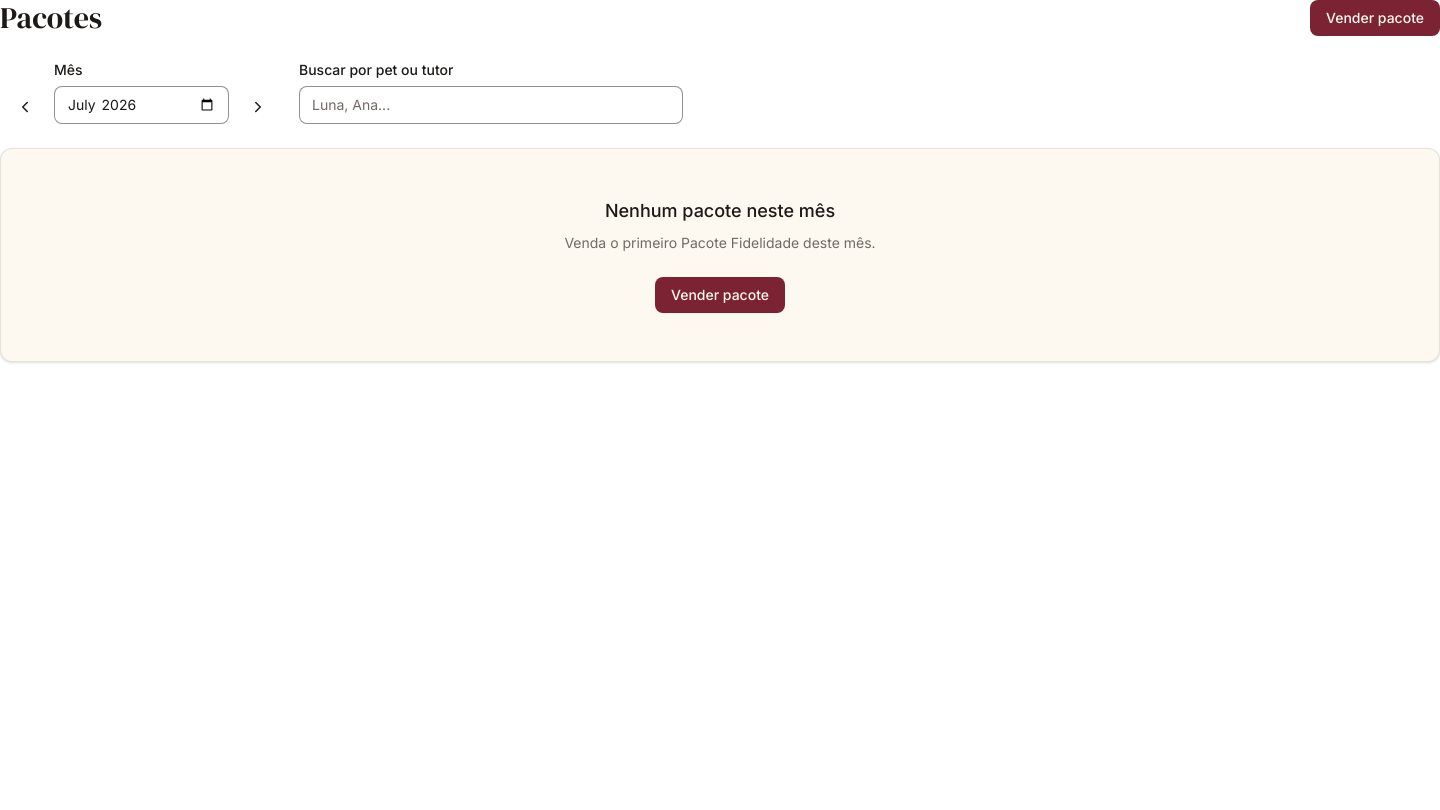
it: Pacotes › venda duplicada mostra a mensagem do backend dentro do modal
The width and height of the screenshot is (1440, 810).
Expected: the text "Nenhum pacote neste mês" is shown, [605,197,835,225]
Click the button "Vender pacote" in the row of "Pacotes" at (1375, 18), box [1310,0,1439,36]
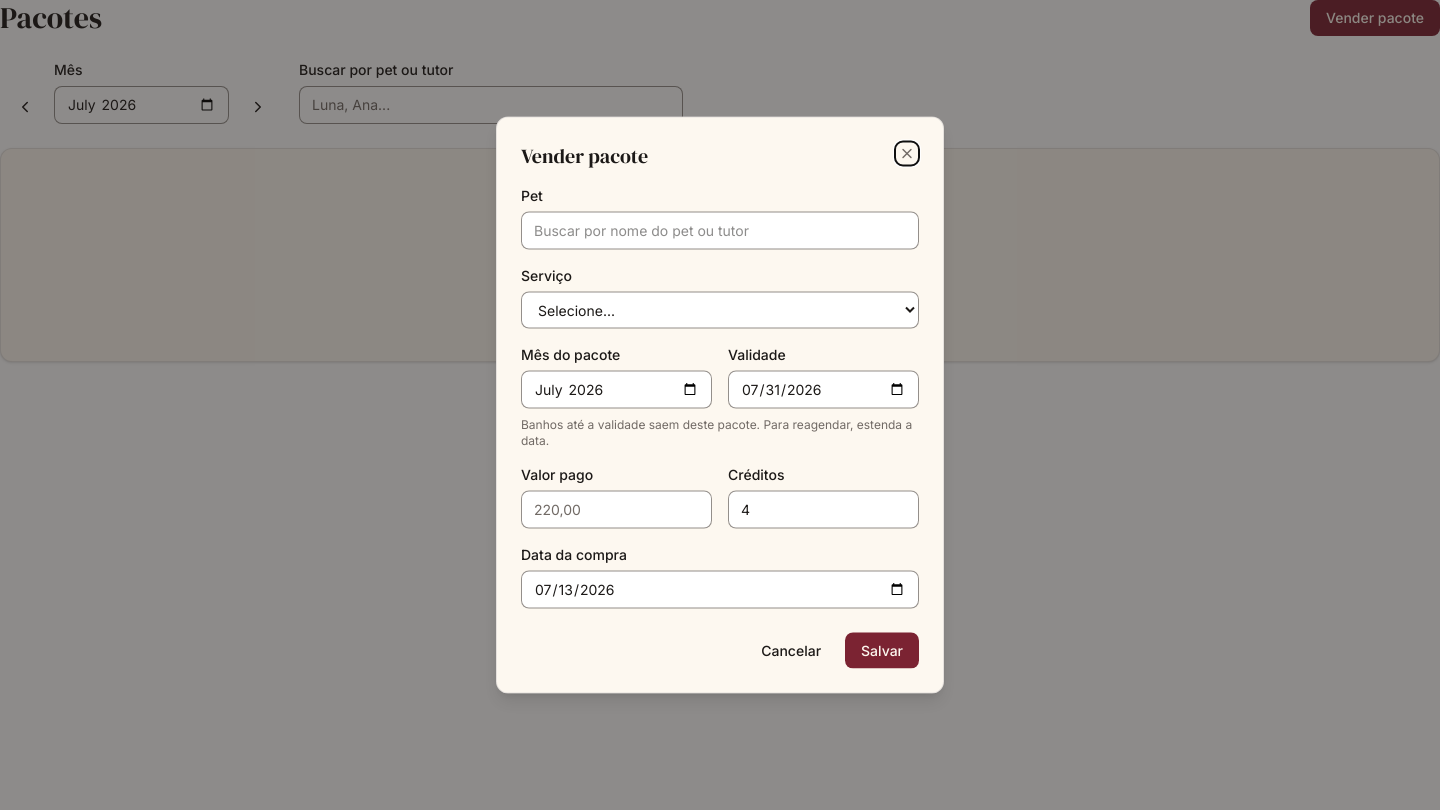
Type "Luna" into the dropdown labelled "Pet" at (720, 230), box [521,212,919,250]
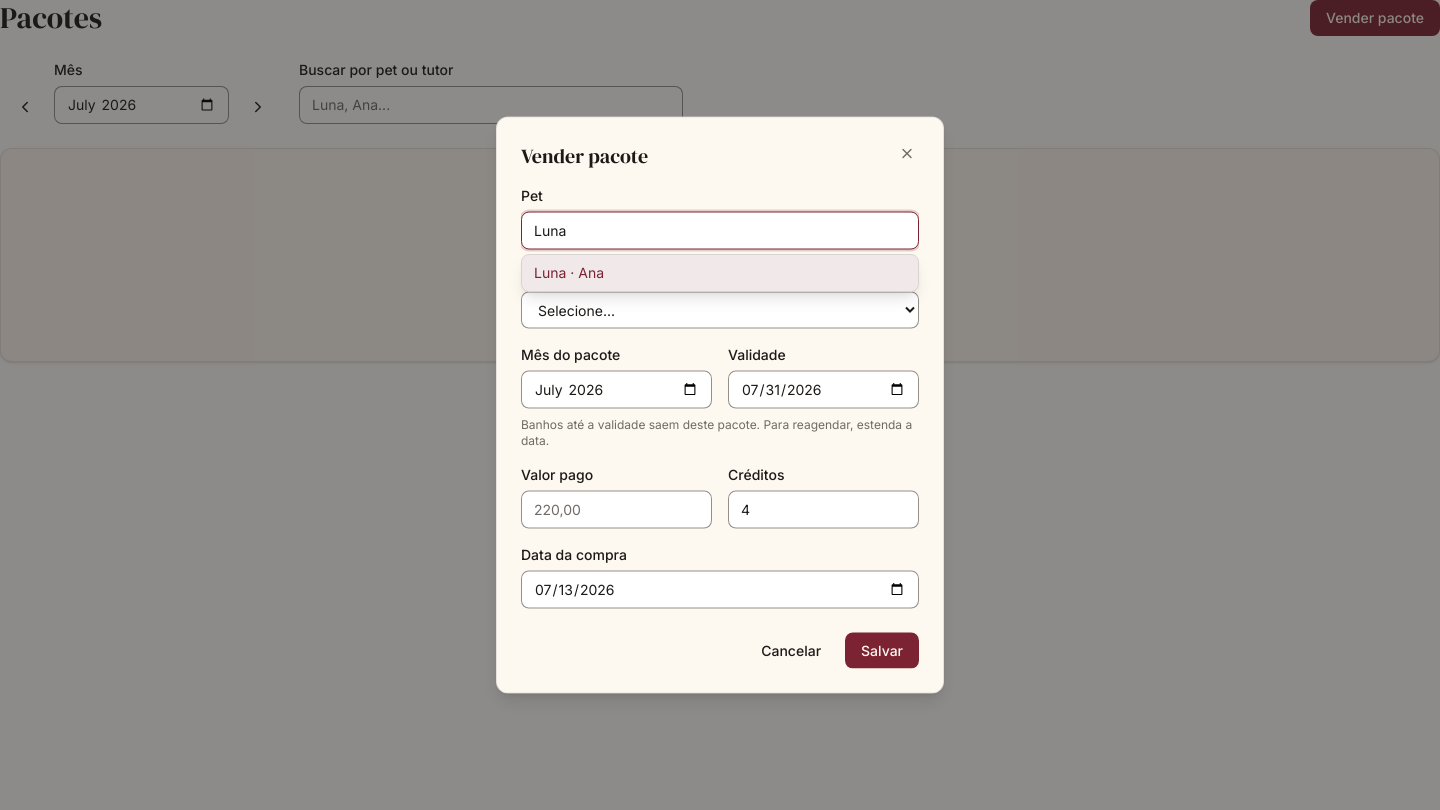
Expected: the option "Luna · Ana" is shown
Click the option "Luna · Ana" at (569, 272), box [522,254,918,290]
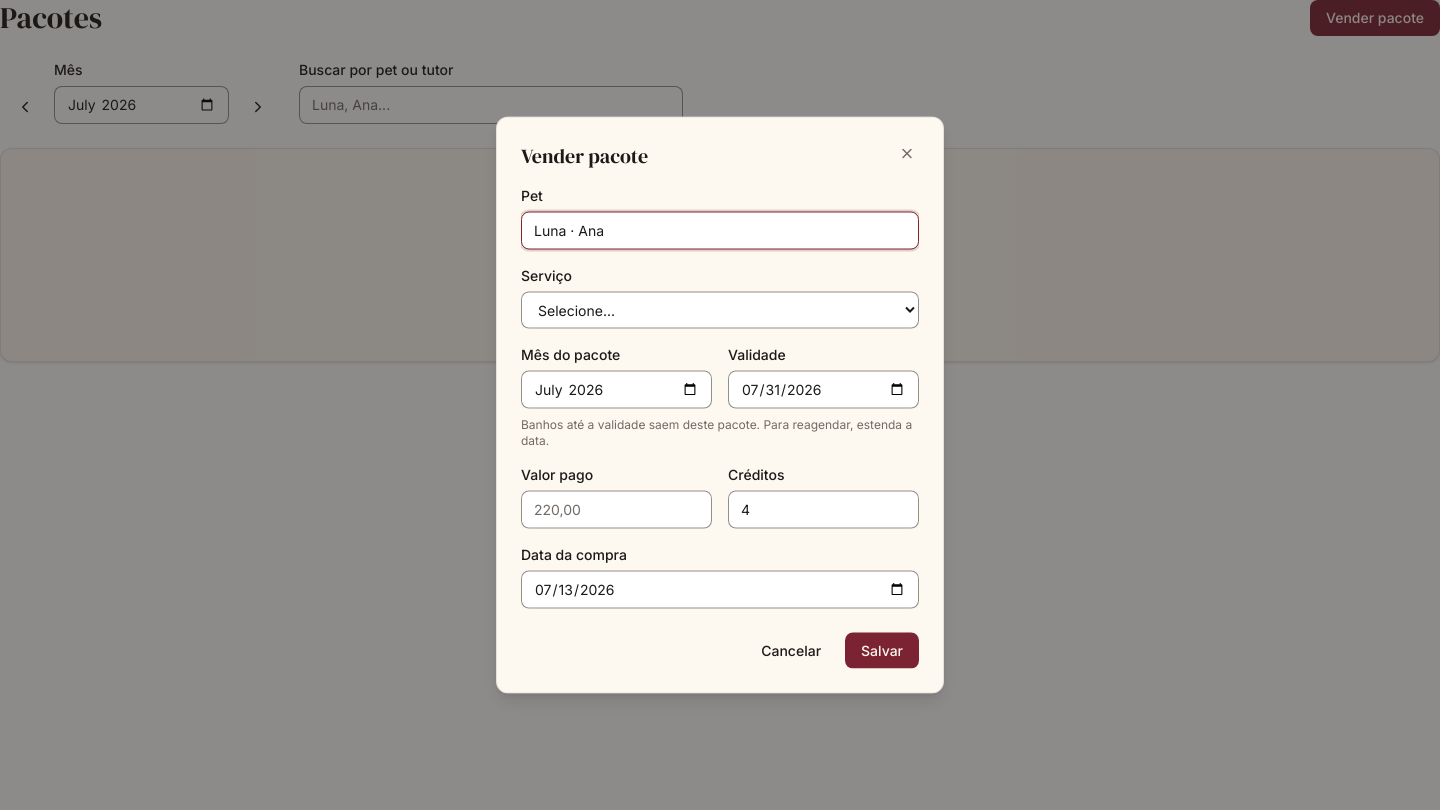
Select "Pacote Fidelidade" in the dropdown labelled "Serviço" at (720, 310), box [521,292,919,328]
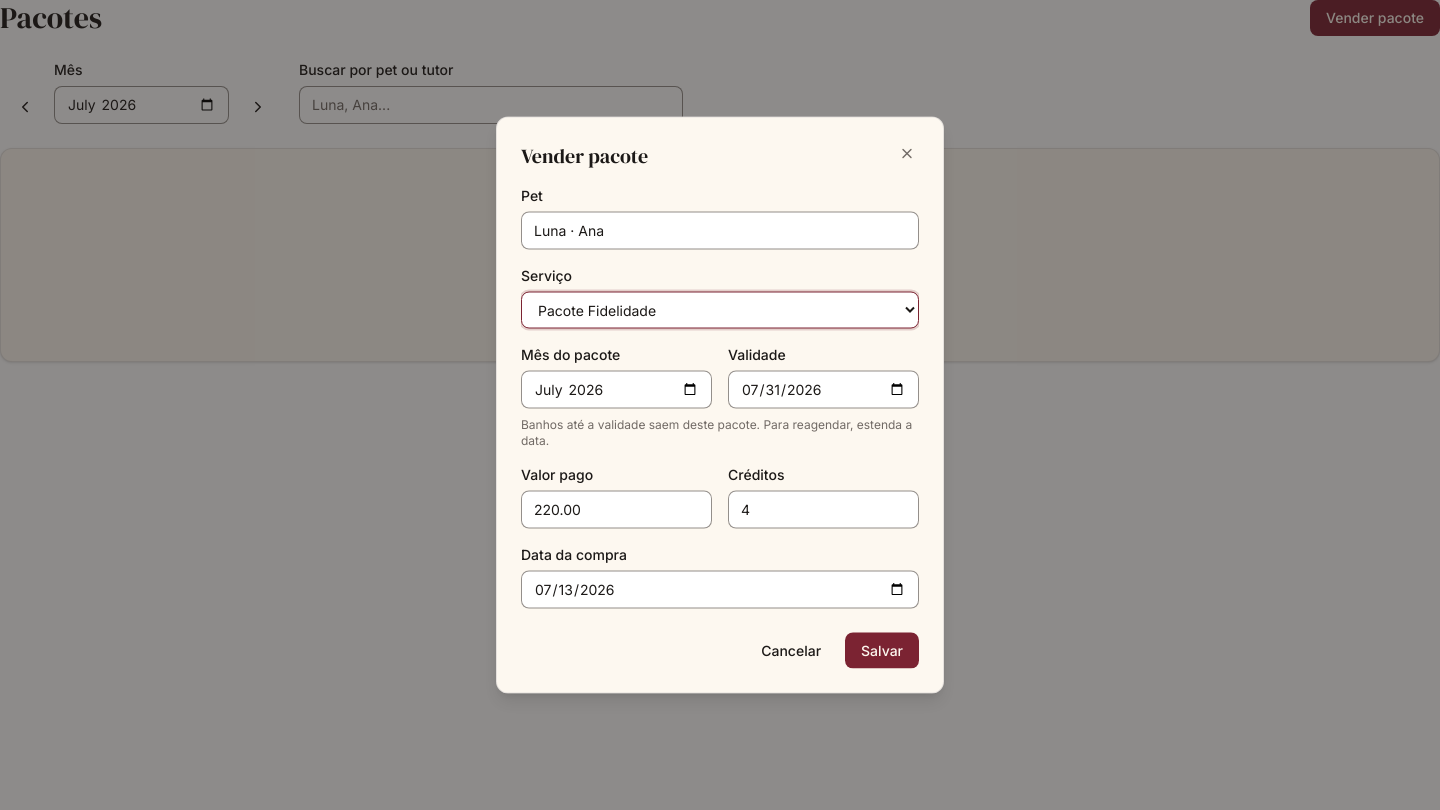
Expected: the field labelled "Valor pago" holds "220.00", [521,490,712,528]
Click the button "Salvar" at (882, 650), box [845,632,919,668]
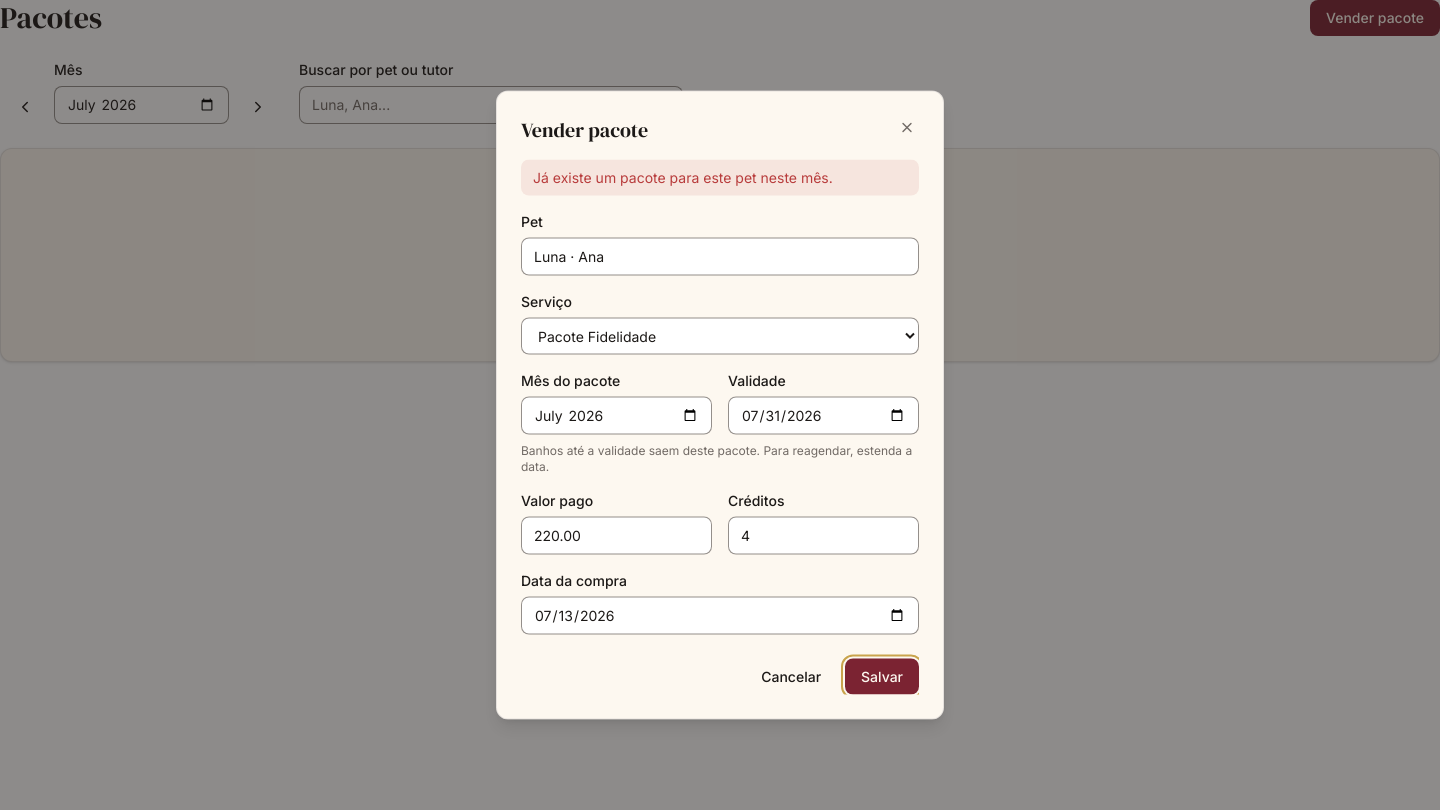
Expected: the dialog is shown, [496,90,944,720]
Expected: the text "Já existe um pacote para este pet neste mês." is shown, [521,160,919,196]
